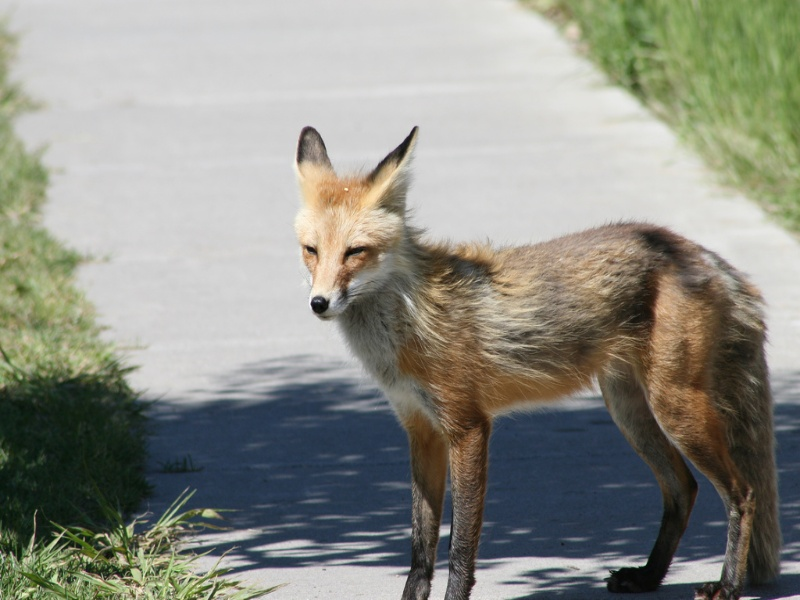fox: (290, 126, 788, 600)
